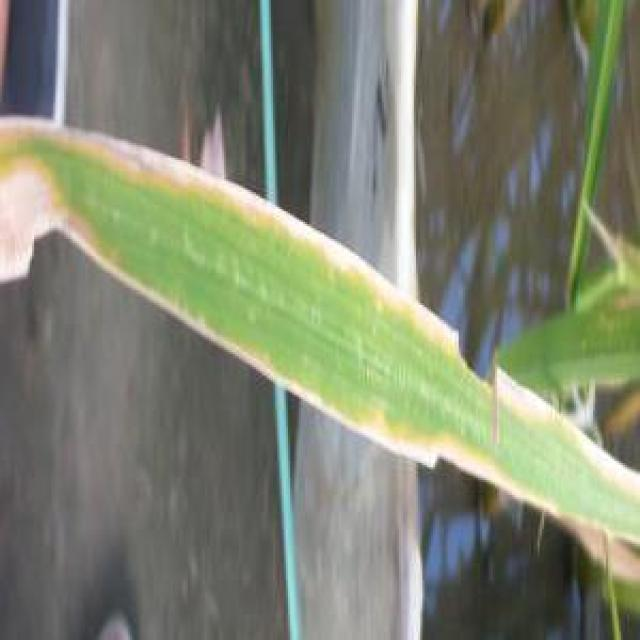Bacterial_Blight: (93, 129, 467, 356), (348, 411, 640, 546), (492, 360, 640, 487), (0, 148, 87, 295)
